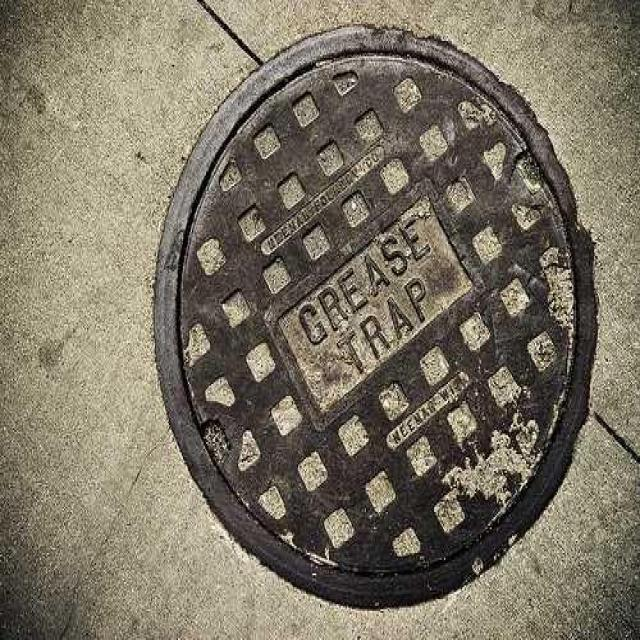manhole: (152, 26, 599, 613)
